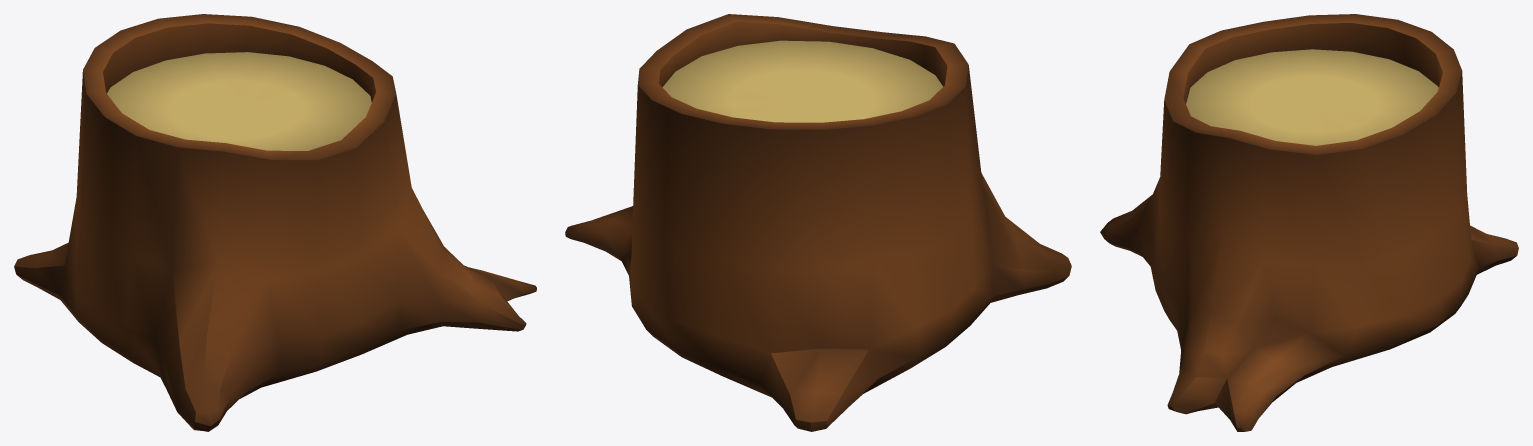
Rendered from Trunk1.fbx.
3 views of the same model, side by side, from view 1: azimuth 30°, elevation 25°; view 2: azimuth 150°, elevation 25°; view 3: azimuth 270°, elevation 25° (orthographic). The views are drawn at different scales.
Parts seen in each view (by area): view 1: Trunk1; view 2: Trunk1; view 3: Trunk1.
Boxes of the visible parts, x1,y1,x2,y2 form: Trunk1: (14, 14, 536, 431); Trunk1: (565, 14, 1071, 431); Trunk1: (1100, 14, 1518, 431).
Size of the model in its own units: 280 by 167 by 259.
